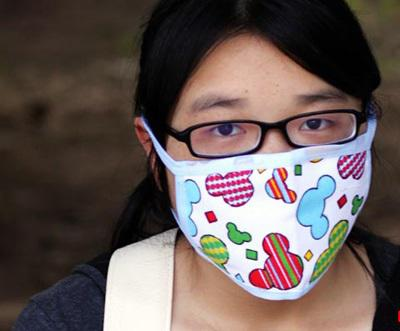OK: (163, 82, 374, 293)
